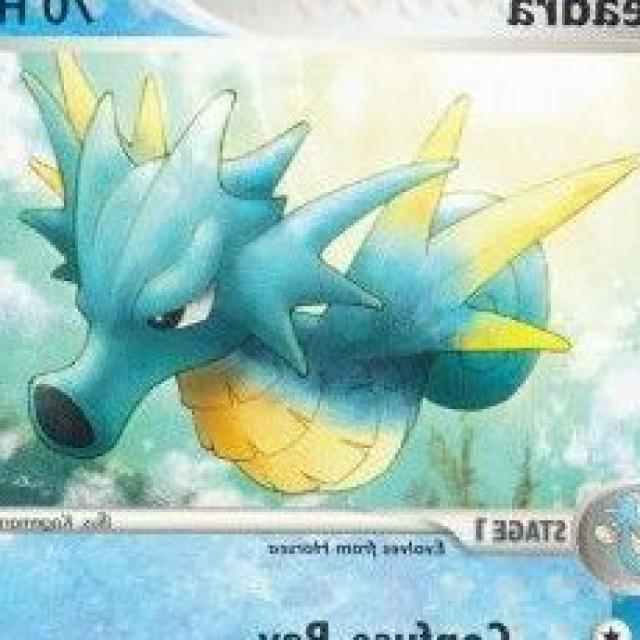Seadra: (26, 88, 542, 484)
